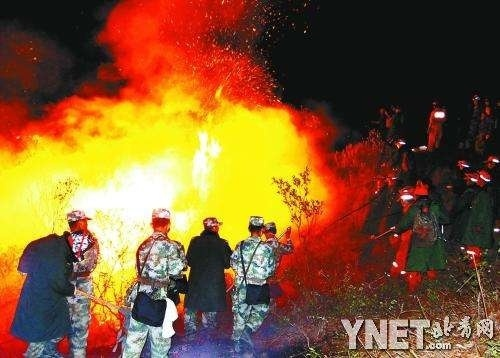fire: (1, 52, 329, 289)
